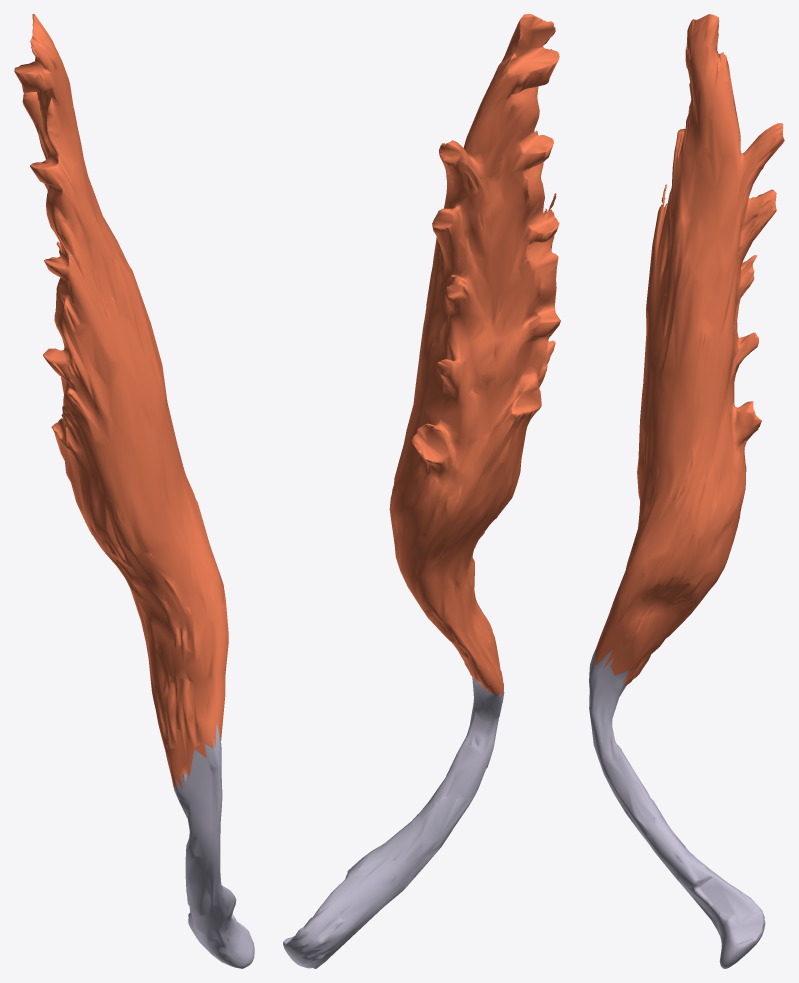
The model's file is Psoas_left.glb.
3 renders of one model, left to right at view 1: azimuth 30°, elevation 25°; view 2: azimuth 150°, elevation 25°; view 3: azimuth 270°, elevation 25°, orthographic. The views are drawn at different scales.
Parts seen in each view (by area): view 1: Psoas_muscle.l_Generated_Mesh_From_X3D.282; view 2: Psoas_muscle.l_Generated_Mesh_From_X3D.282; view 3: Psoas_muscle.l_Generated_Mesh_From_X3D.282.
Part boxes in pixels (<box>): Psoas_muscle.l_Generated_Mesh_From_X3D.282: <box>14,14,254,968</box>; Psoas_muscle.l_Generated_Mesh_From_X3D.282: <box>283,14,560,968</box>; Psoas_muscle.l_Generated_Mesh_From_X3D.282: <box>589,14,784,968</box>.
Size of the model in its own units: 0.0999 by 0.3799 by 0.078.
